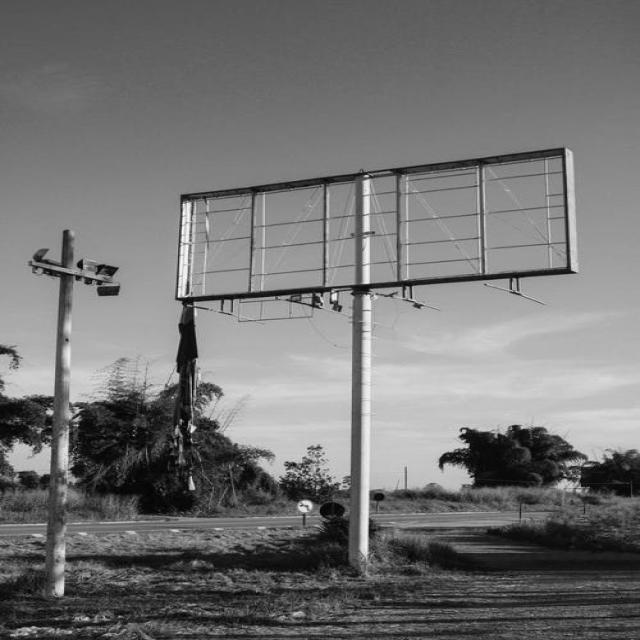pole: (336, 296, 382, 555), (44, 286, 80, 590)
